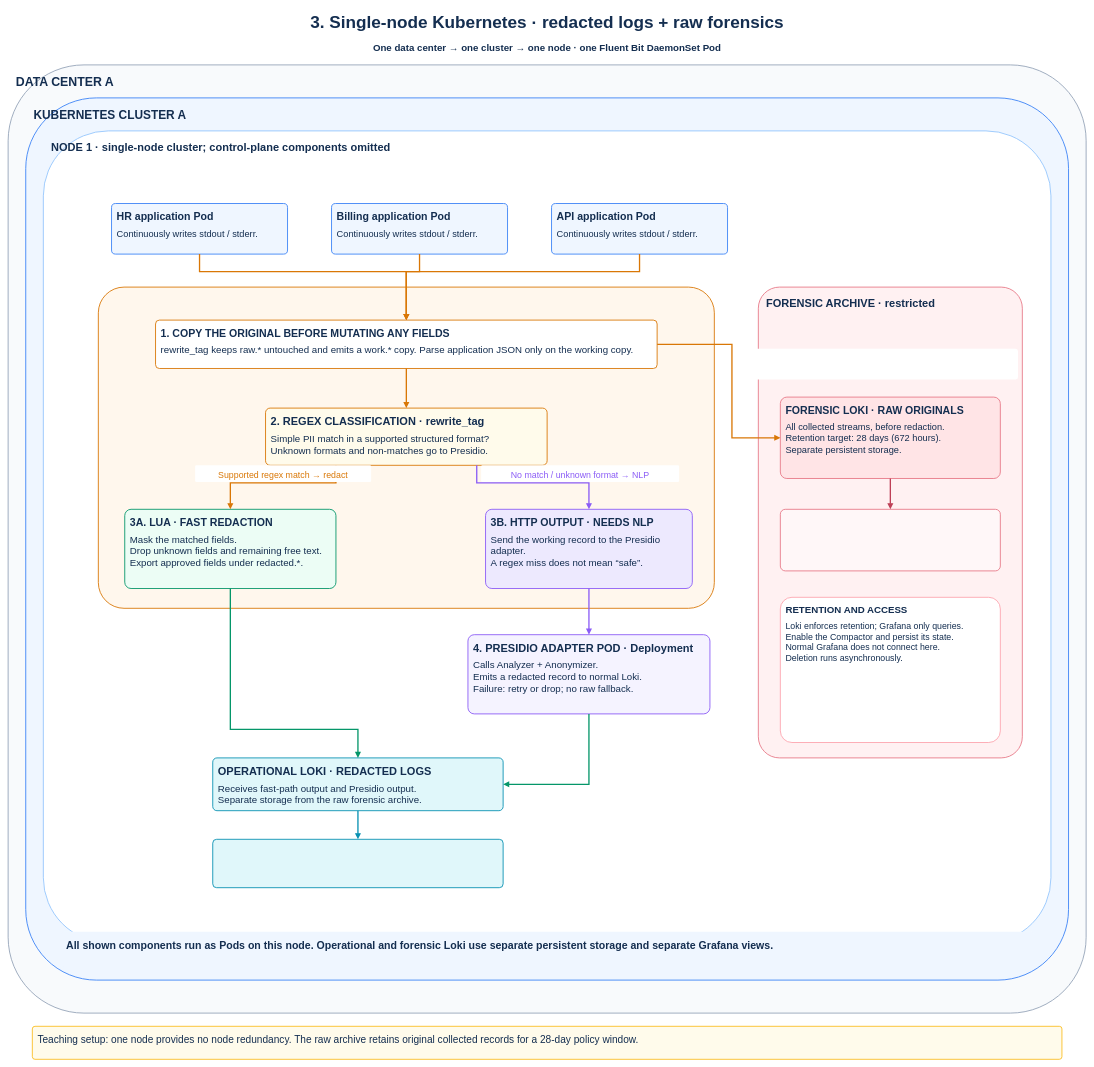
This 1094x1067 diagram has some shape labels left out. The shapes that lost their labels are listed below. From the top down, each one's box as (x1, y1, x2, y2) in pixels, then its label:
(754, 348, 1018, 379): Original copy · before parsing / redaction
(98, 286, 715, 609): FLUENT BIT POD · DaemonSet collector and filters
(780, 509, 1001, 571): FORENSIC GRAFANA Restricted investigator access. Queries the raw archive.
(212, 839, 503, 888): NORMAL GRAFANA Normal users query redacted logs only.
